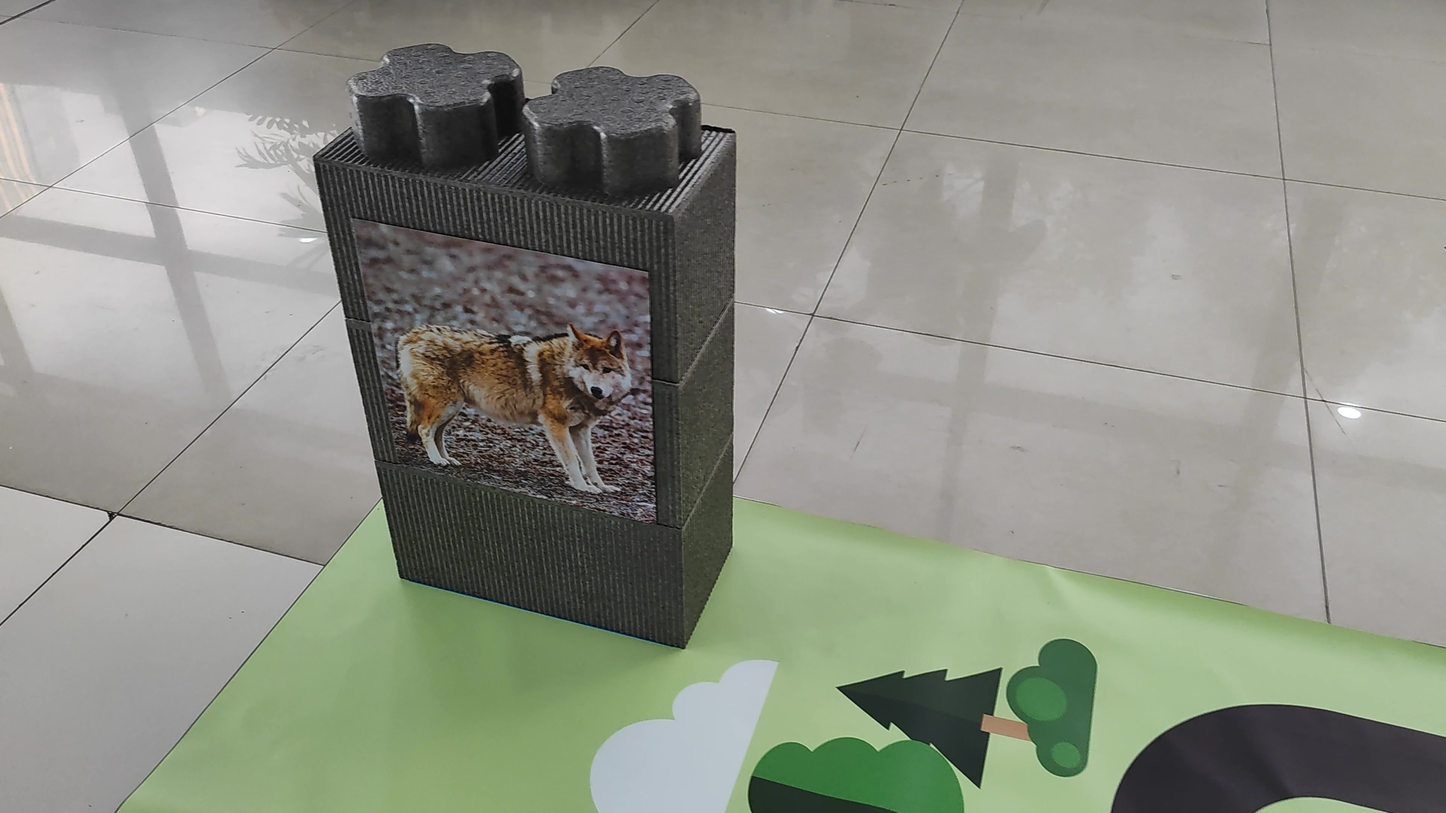wolf: (369, 279, 664, 505)
